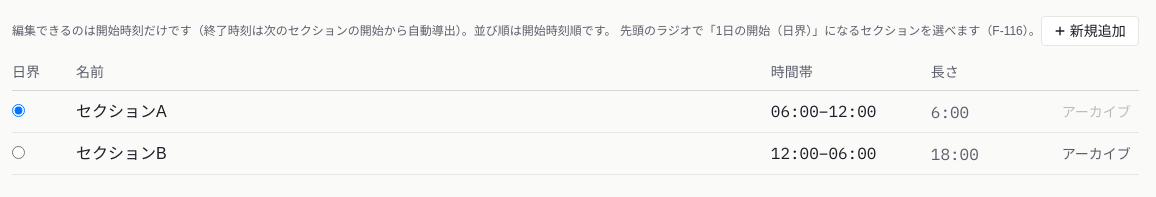
SectionsTable（画面定義書03 §3.1: 開始時刻・日界の選択・終了時刻は導出） › インライン編集（画面定義書03 §4「編集方式」/ 00_共通 §2.3） › 名前セルと開始時刻セルは独立して編集できる（一方だけが入力欄になる）
This screenshot has width=1156, height=197.
Click the button "セクションA" at (121, 112), box [76,100,167,124]
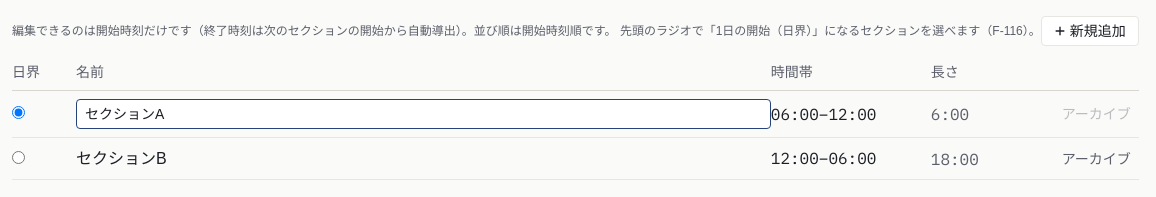
Expected: the button "06:00–12:00" is shown, [771,102,876,126]
Now the number of fields is 1, box [76,99,771,129]
